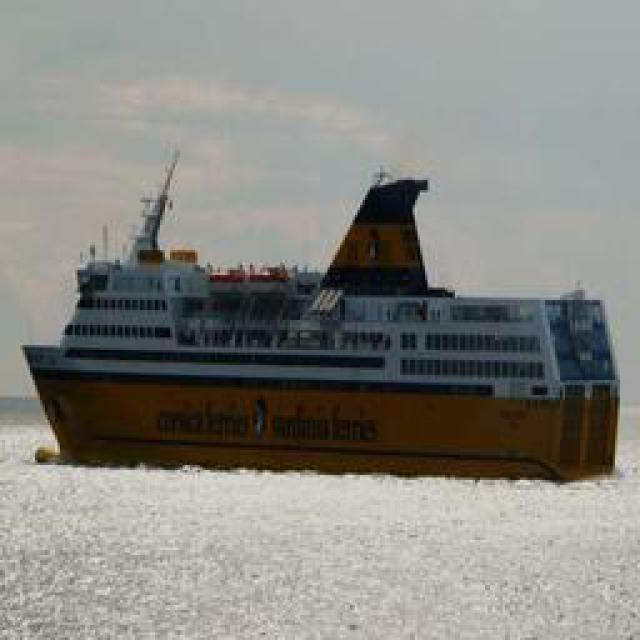Ship: (26, 130, 606, 478)
